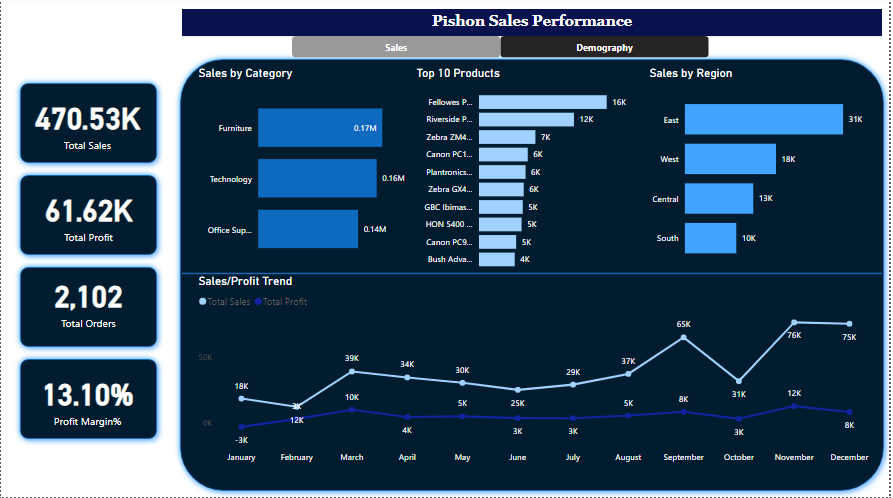

The page's visual inventory and layout, read from the dashboard file:
{"tool":"powerbi","page":{"name":"Sales","canvas":[1280,720],"ordinal":0},"visuals":[{"type":"shape","box":[249.1,80.6,1031,639.4],"z":0},{"type":"shape","box":[18.7,115.6,214.6,132.5],"z":1000},{"type":"shape","box":[18.7,248.1,214.6,132.5],"z":2000},{"type":"shape","box":[18.7,380.6,214.6,132.5],"z":3000},{"type":"shape","box":[18.7,512.6,214.6,132.5],"z":4000},{"type":"shape","box":[260.6,247.7,1008,301],"z":5000},{"type":"lineChart","title":"   Sales/Profit Trend","fields":{"Category":["Calendar2_dim.Month Name"],"Y":["Business perf claculation table.Total Sales","Business perf claculation table.Total Profit","Business perf claculation table.Total Profit"]},"box":[279.4,398.9,979.2,282.2],"z":6000},{"type":"card","fields":{"Values":["Business perf claculation table.Total Sales"]},"box":[30.2,123.8,188.6,115.2],"z":7000},{"type":"card","fields":{"Values":["Business perf claculation table.Total Profit"]},"box":[31.7,256.3,188.6,115.2],"z":8000},{"type":"card","fields":{"Values":["Business perf claculation table.Total Orders"]},"box":[31.7,380.2,188.6,115.2],"z":9000},{"type":"card","fields":{"Values":["Business perf claculation table.Profit Margin%"]},"box":[30.2,521.3,188.6,115.2],"z":10000},{"type":"clusteredBarChart","title":"Sales by Category","fields":{"Category":["Product_dim.Category"],"Y":["Business perf claculation table.Total Sales"]},"box":[279.4,99.4,313.9,299.5],"z":11000},{"type":"clusteredBarChart","title":"Top 10 Products","fields":{"Category":["Product_dim.Product Name"],"Y":["Business perf claculation table.Total Sales"]},"box":[593.3,99.4,328.3,303.8],"z":12000},{"type":"clusteredBarChart","title":"Sales by Region","fields":{"Y":["Business perf claculation table.Total Sales"],"Category":["Location_dim.Region"]},"box":[928.8,99.4,329.8,299.5],"z":13000},{"type":"textbox","box":[260.6,17.3,1008,38.9],"z":14000},{"type":"bookmarkNavigator","box":[419,56.2,600.5,31.7],"z":15000}]}

Visuals, with their boxes in screenshot pixels (x1, y1, x2, y2), scaled from the page's 1280x720 canvas onto the 893x498 screenshot:
shape: locate(174, 56, 892, 497)
shape: locate(13, 80, 163, 172)
shape: locate(13, 172, 163, 263)
shape: locate(13, 263, 163, 355)
shape: locate(13, 355, 163, 446)
shape: locate(182, 171, 885, 380)
"   Sales/Profit Trend" lineChart: locate(195, 276, 878, 471)
card - Business perf claculation table.Total Sales: locate(21, 86, 153, 165)
card - Business perf claculation table.Total Profit: locate(22, 177, 154, 257)
card - Business perf claculation table.Total Orders: locate(22, 263, 154, 343)
card - Business perf claculation table.Profit Margin%: locate(21, 361, 153, 440)
"Sales by Category" clusteredBarChart: locate(195, 69, 414, 276)
"Top 10 Products" clusteredBarChart: locate(414, 69, 643, 279)
"Sales by Region" clusteredBarChart: locate(648, 69, 878, 276)
textbox: locate(182, 12, 885, 39)
bookmarkNavigator: locate(292, 39, 711, 61)
